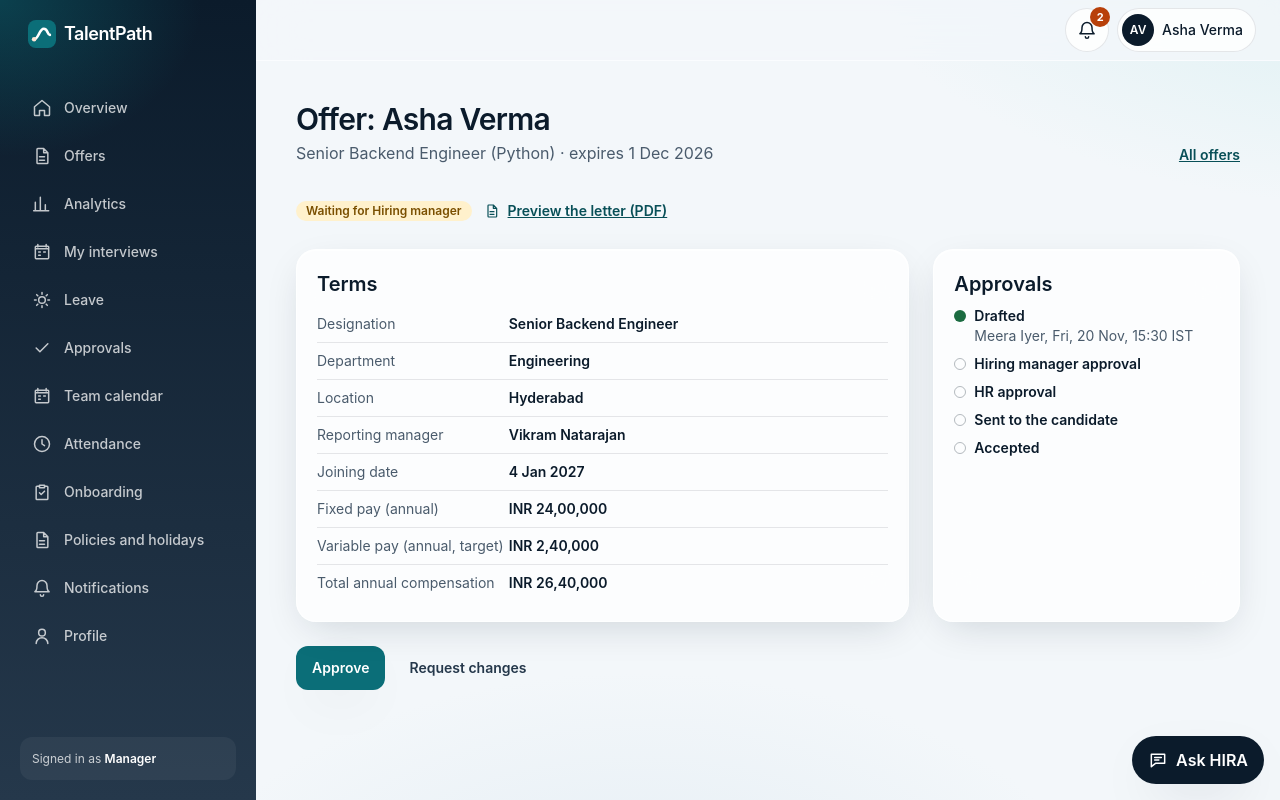
Test: offers › a rejection needs a reason of at least 10 characters
Click the button "Request changes" at (468, 668), box [393,646,542,690]
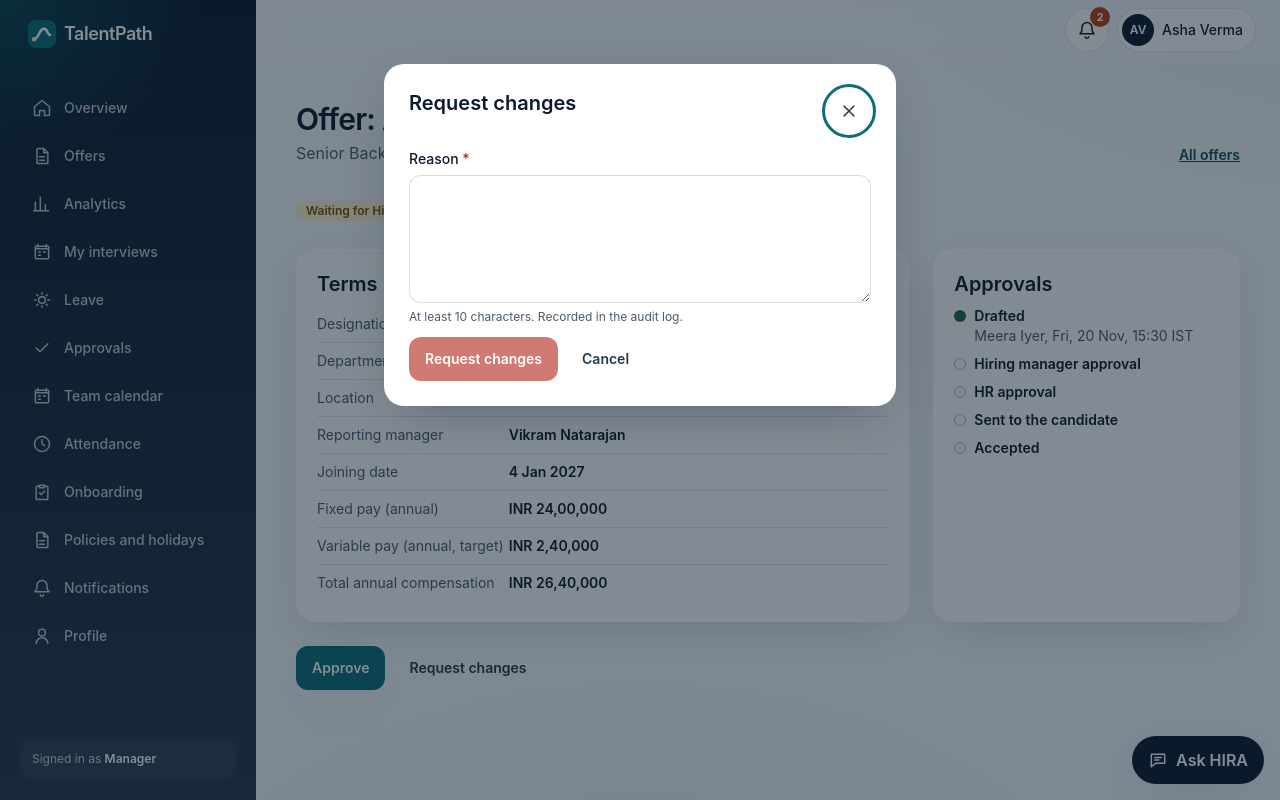
Check: the button "Request changes" is disabled, box [409,337,558,381]
Type "Pay is above band." into the text box labelled "Reason *" at (640, 239), box [409,175,871,303]
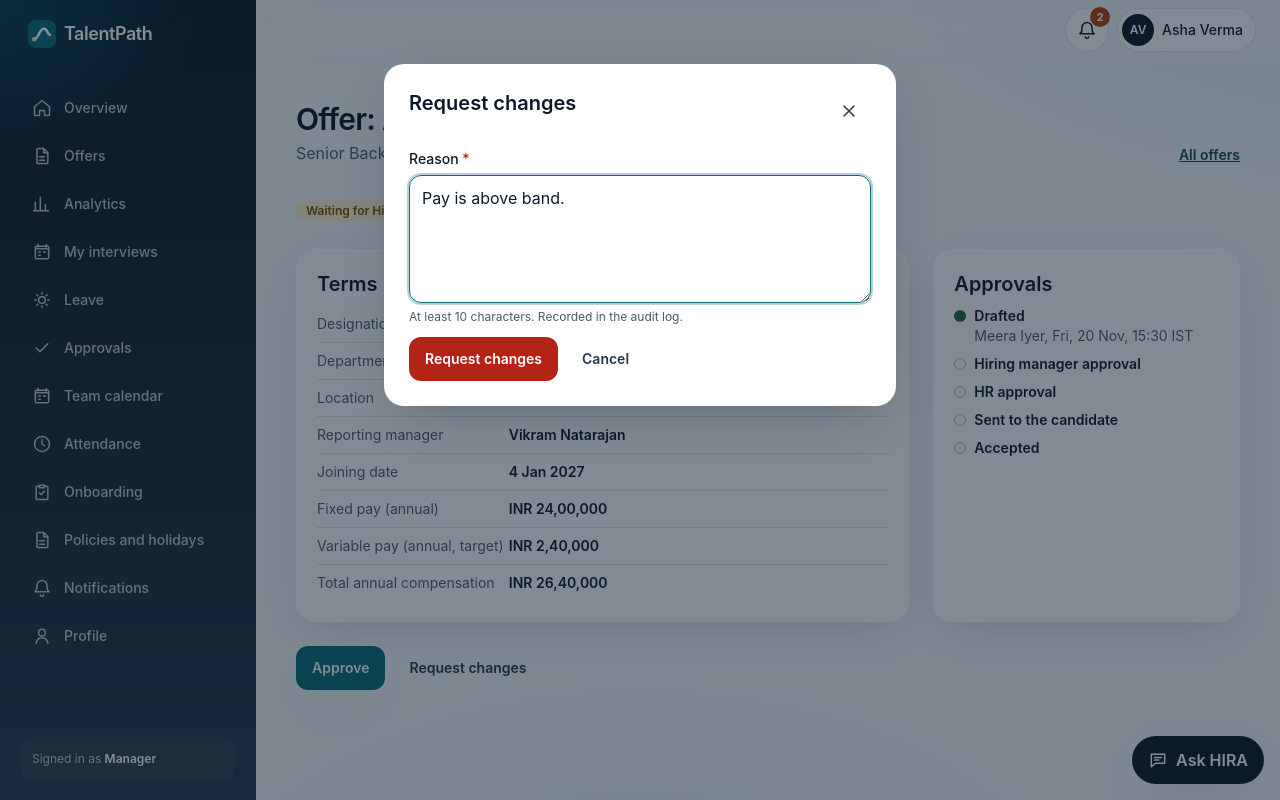
Check: the button "Request changes" is enabled, box [409,337,558,381]
